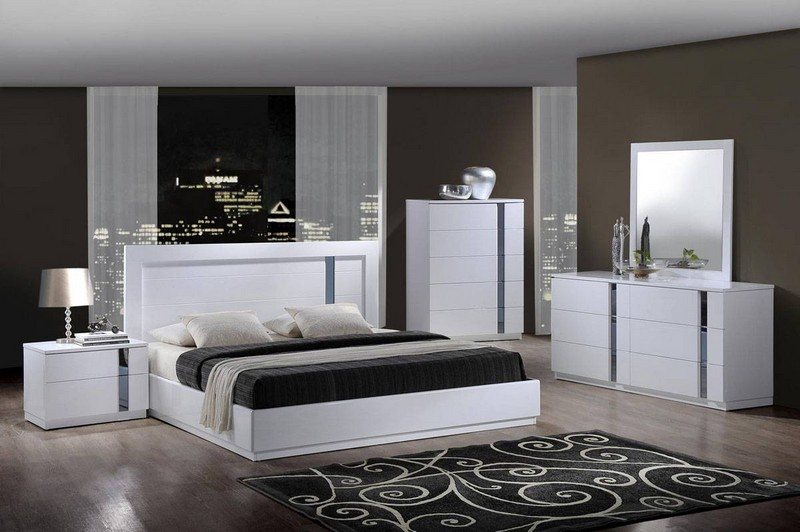bed: (124, 242, 549, 449)
lamp: (39, 266, 96, 339)
stool: (21, 336, 153, 436)
